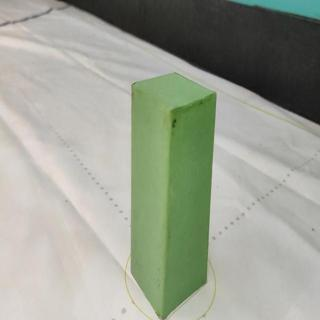greenbox: (129, 69, 217, 320)
